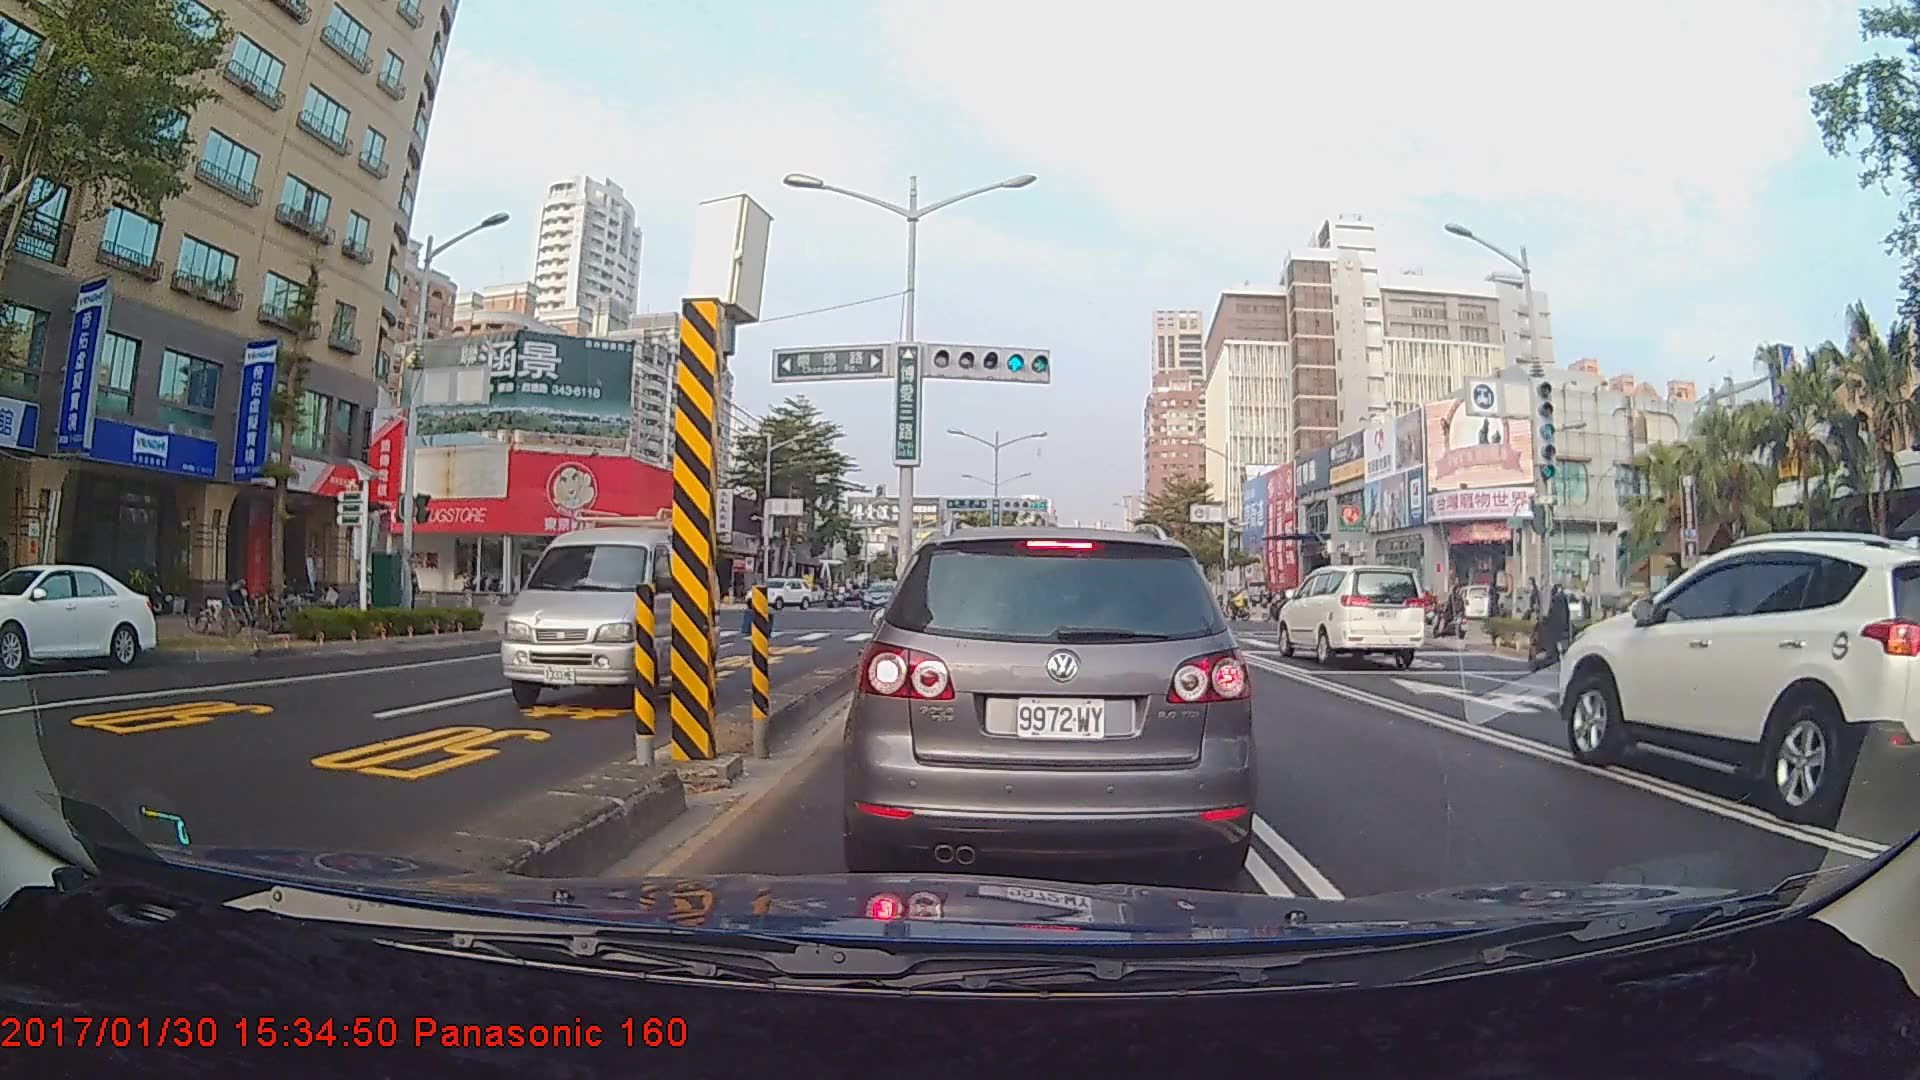pedestrian: (1487, 579, 1508, 637)
rider: (1514, 584, 1589, 688), (518, 559, 554, 629)
vehicle: (851, 522, 1247, 882), (1562, 529, 1920, 824), (499, 507, 723, 710), (0, 561, 158, 671), (1273, 563, 1428, 666), (860, 579, 900, 610)
